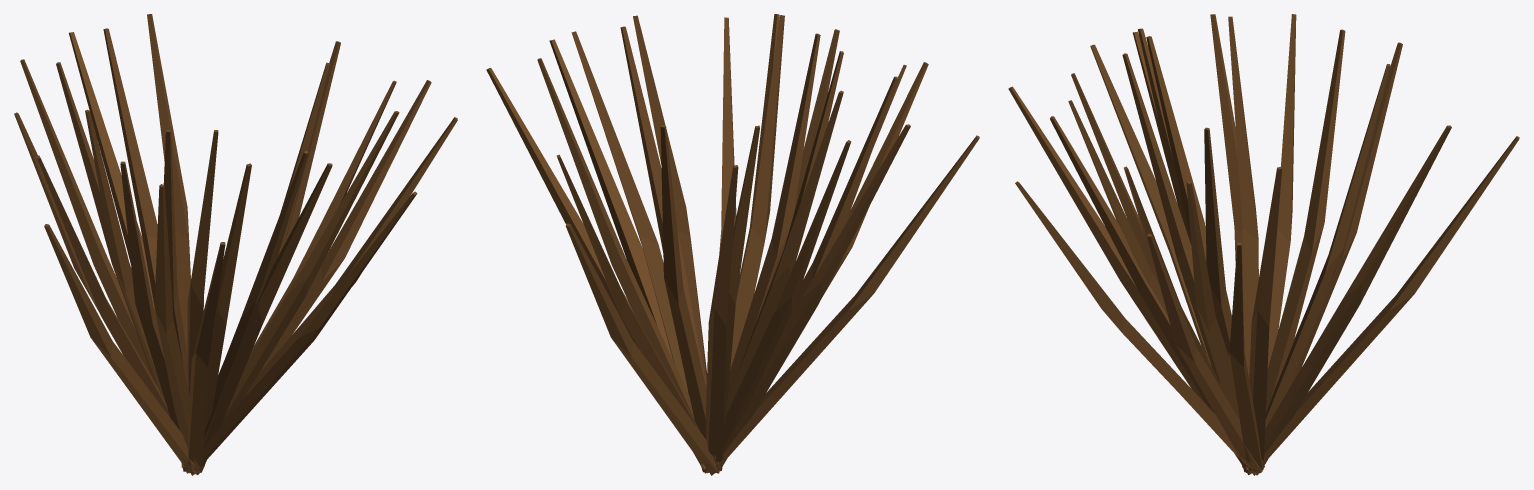
The model's file is DryBush_LOD0.fbx.
3 renders of one model, left to right at view 1: azimuth 30°, elevation 25°; view 2: azimuth 150°, elevation 25°; view 3: azimuth 270°, elevation 25°, orthographic.
Visible parts, largest first — view 1: DryBush_LOD0; view 2: DryBush_LOD0; view 3: DryBush_LOD0.
Boxes of the visible parts, bbox=[...] form: DryBush_LOD0: bbox=[14, 14, 457, 475]; DryBush_LOD0: bbox=[486, 14, 979, 475]; DryBush_LOD0: bbox=[1008, 14, 1519, 475].
Bounding box in the file's own units: 93.34 × 80.2 × 92.26.
